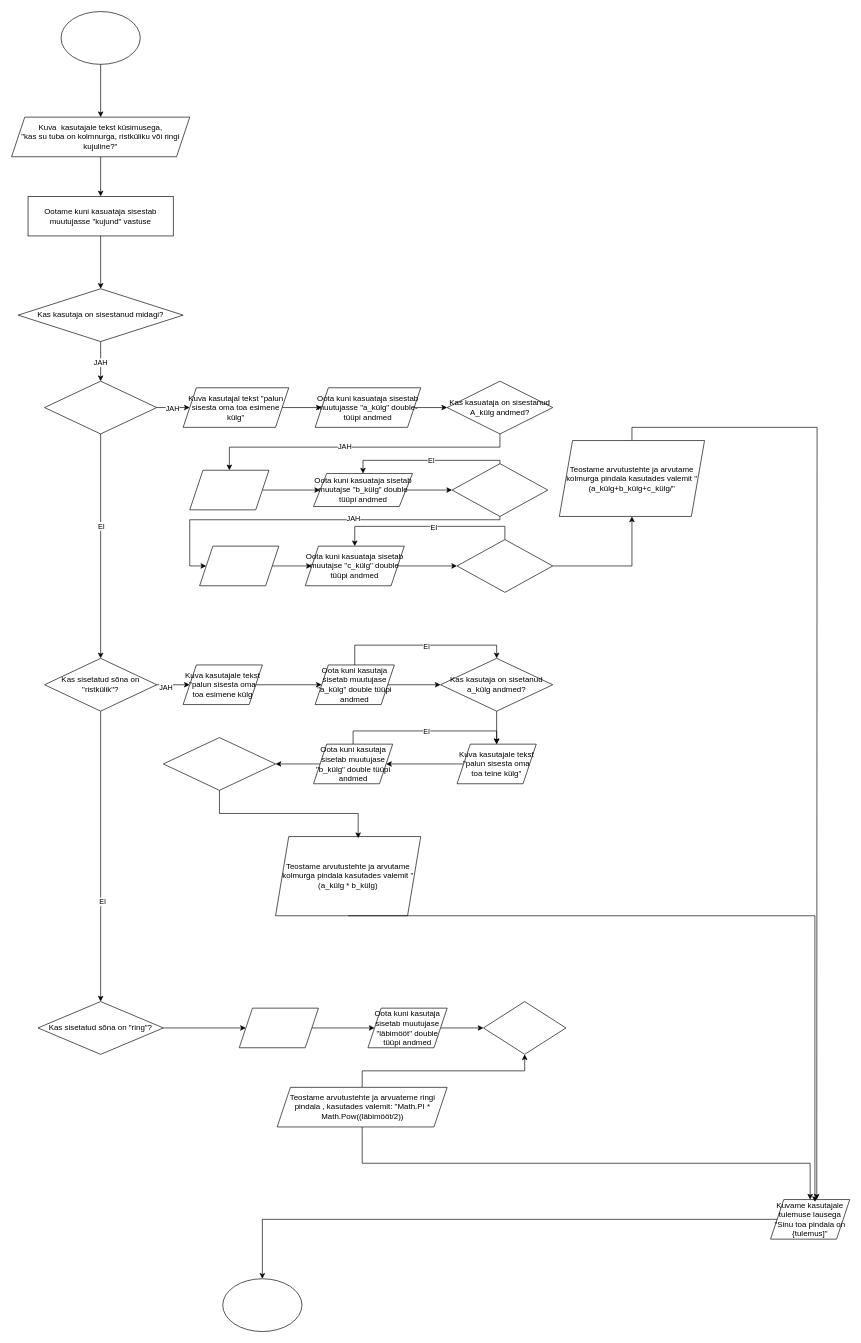
Some shapes in this 861 by 1343 pixel diagram are drawn without their labels. The shapes that lost their labels are listed below. From the top down, each one's centre as x and y in pixels, then its label:
point (100, 37): Algus
point (100, 407): Kas sisestatud sõna on "kolnurk"?
point (229, 490): Kuva kasutajalt tekst "palun sisesta oma toa teine külg
point (499, 489): Kas kasutaja on sisestanud B_külg andmed?
point (239, 565): Kuva kasutajalt tekst "palun sisesta oma toa kolmas külg
point (504, 565): Kas kasutaja on sisestanud C_külg andmed?
point (219, 763): Kas kasutaja on sisetanud b_külg andmed?
point (278, 1027): Kuva kasuataja tekst "palun sisesta oma toa läbimööt"
point (524, 1027): Kas kasuataja on sisestand käbimööt andme?
point (262, 1305): Lõpp
